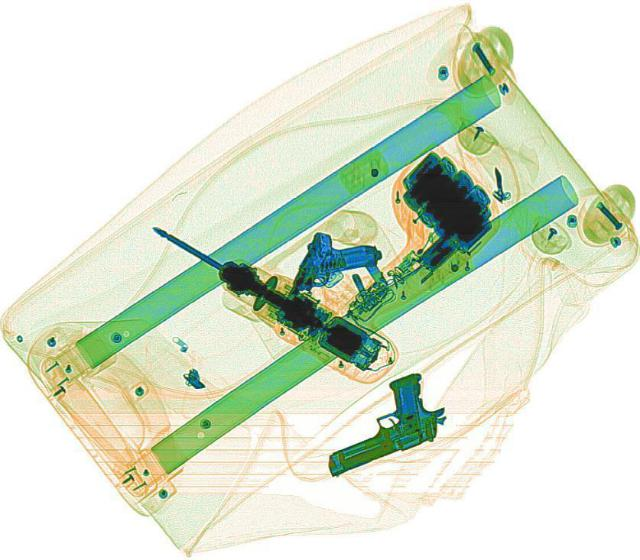Gun: (292, 367, 454, 478), (282, 227, 382, 315)
